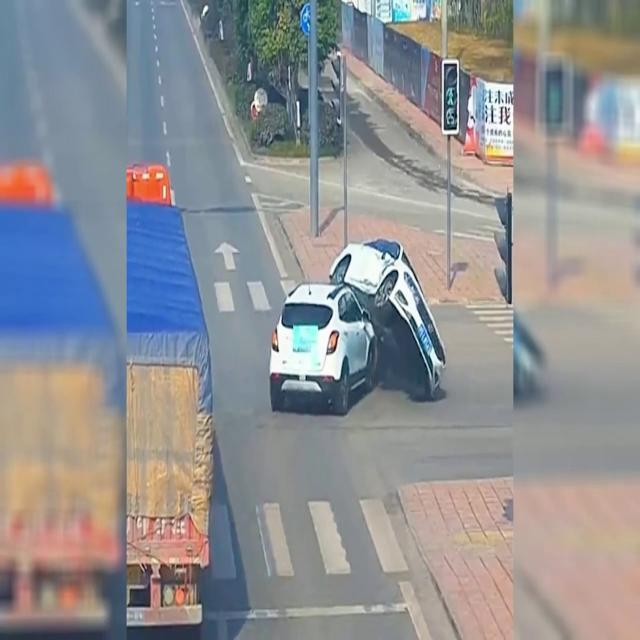car Accident: (237, 178, 455, 464)
